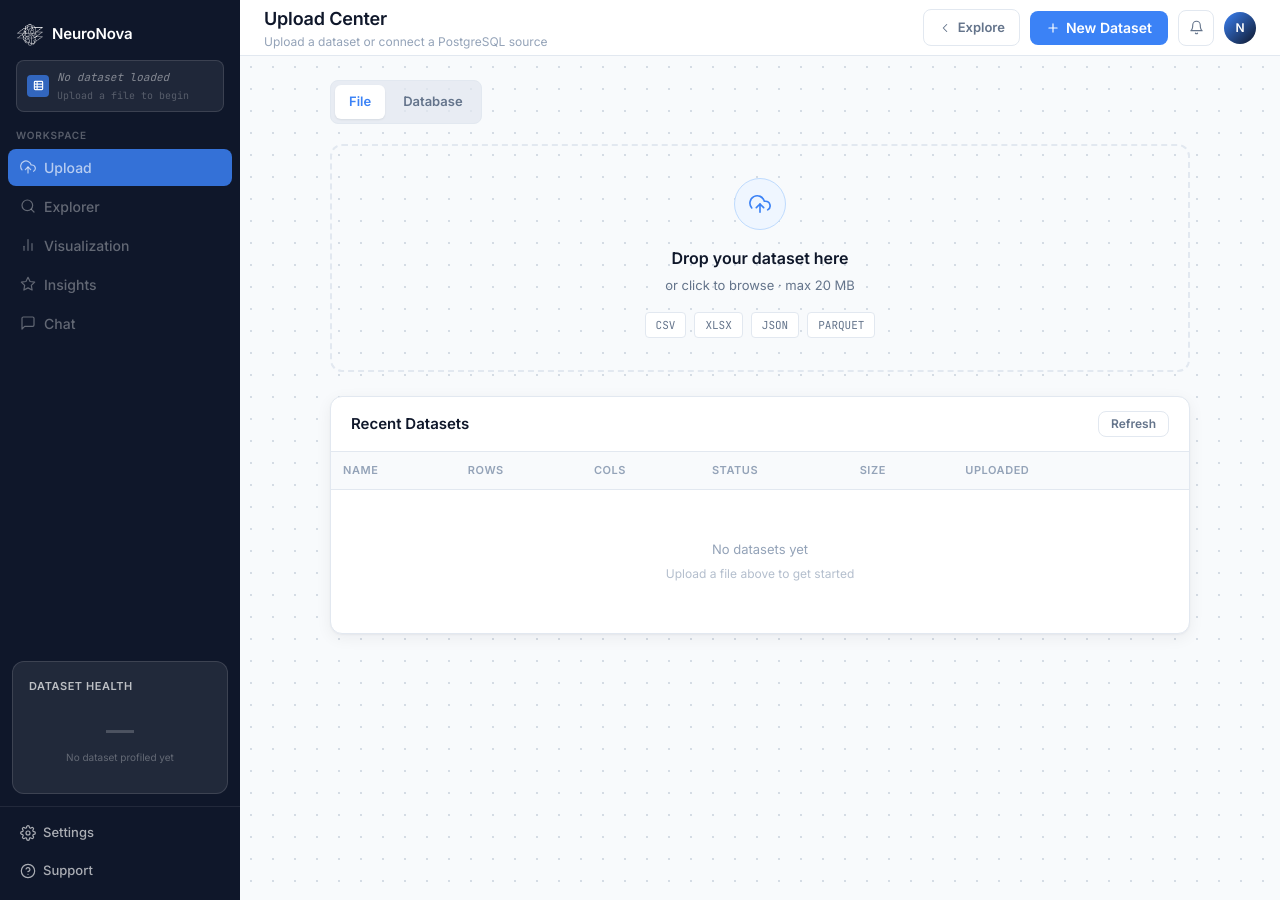
Test: does not render an unexpected source status as a catalog-readiness claim
This screenshot has width=1280, height=900.
Click the tab "Database".
click(433, 102)  # box [389,85,477,119]
(page scrolled)
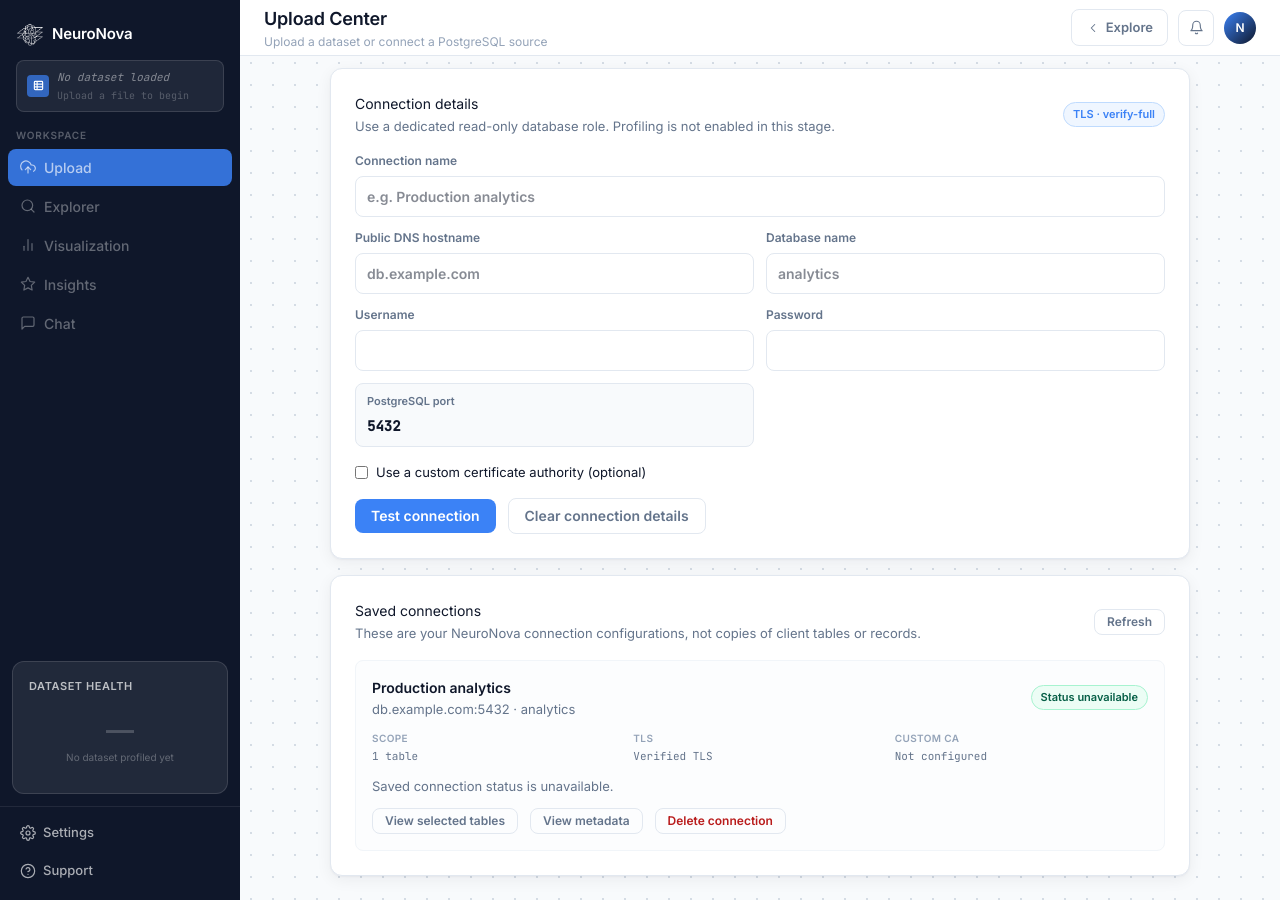
Expected: the heading "Production analytics" is shown, [372,678,511,696]
Expected: the text "Status unavailable" is shown, [1030,685,1148,710]
